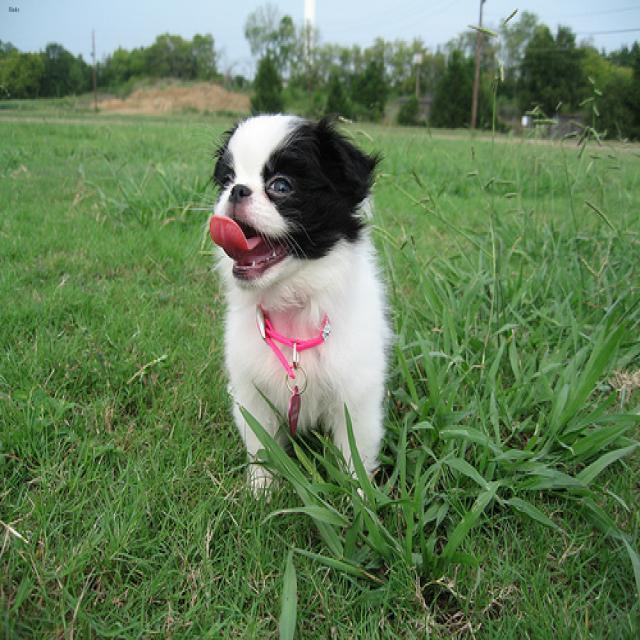dog-japanese_chin: (196, 104, 394, 519)
